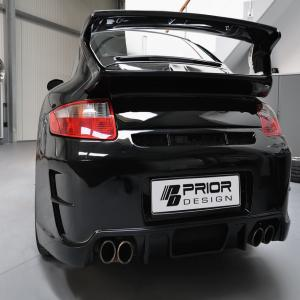Vehicle-registration-plate: (155, 180, 245, 223)
